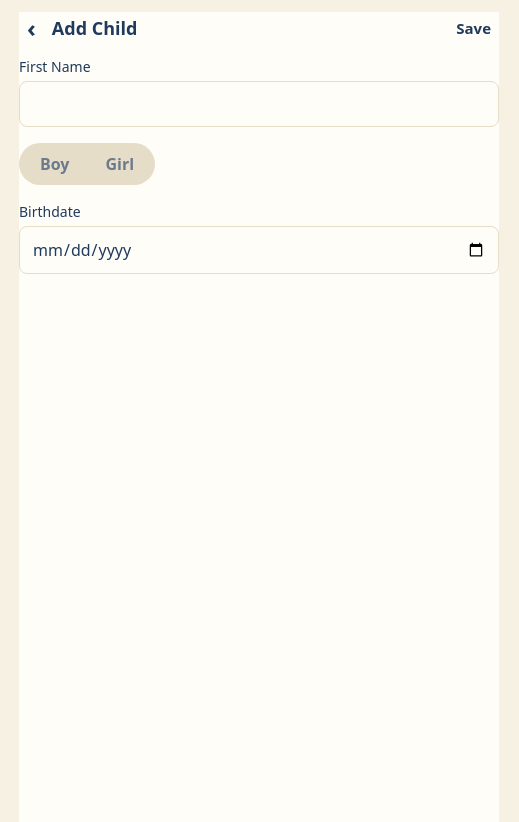
AddChildPage › stays on the form and says so when the child cannot be added
Type "Nina" into the field labelled "First Name" at {"x": 259, "y": 104}, box x1=19 y1=81 x2=499 y2=127
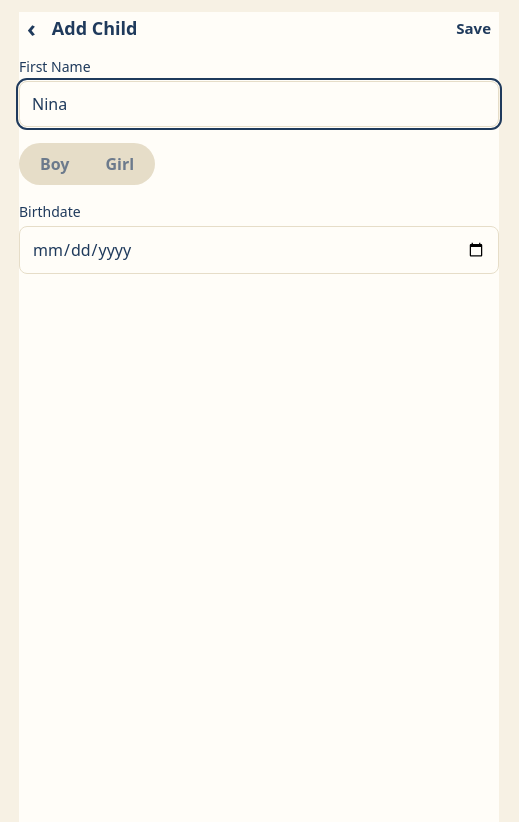
Click the button "Girl" at {"x": 120, "y": 164}, box x1=88 y1=146 x2=152 y2=182
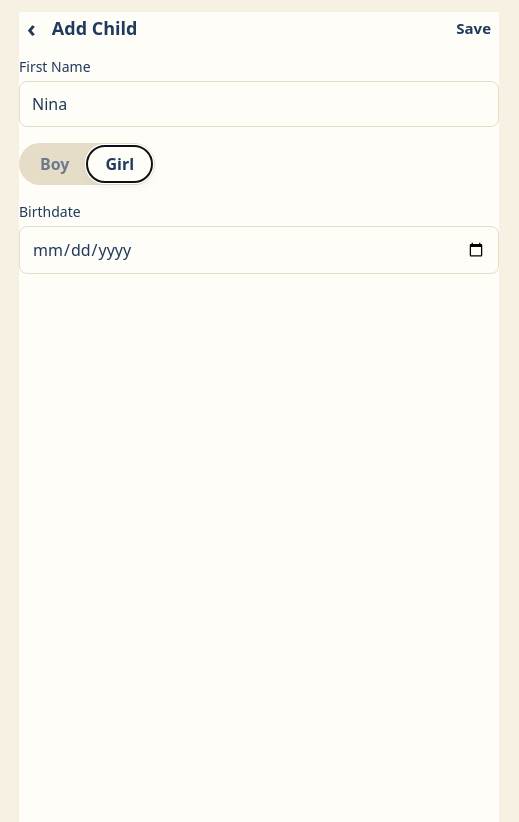
Type "2026-01-15" into the date field labelled "Birthdate" at {"x": 259, "y": 250}, box x1=19 y1=226 x2=499 y2=274
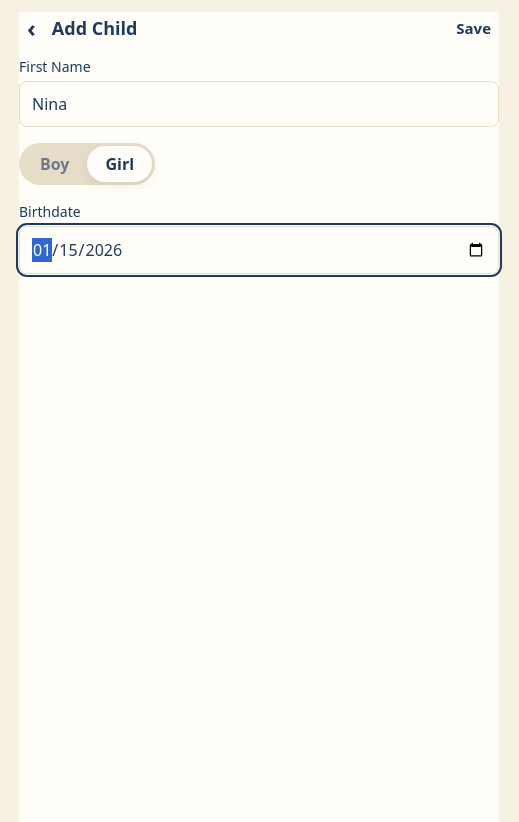
Click the button "Save" at {"x": 474, "y": 28}, box x1=448 y1=16 x2=499 y2=40
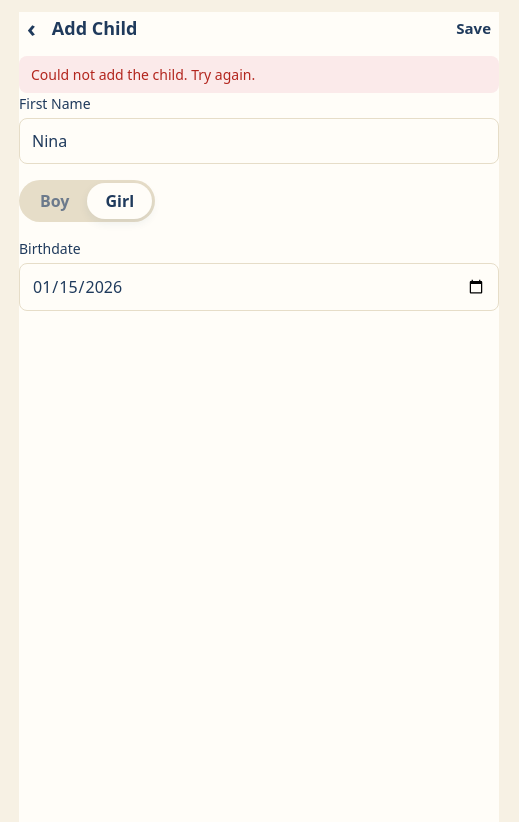
Now the message shows "Could not add the child.", box x1=31 y1=65 x2=255 y2=84
